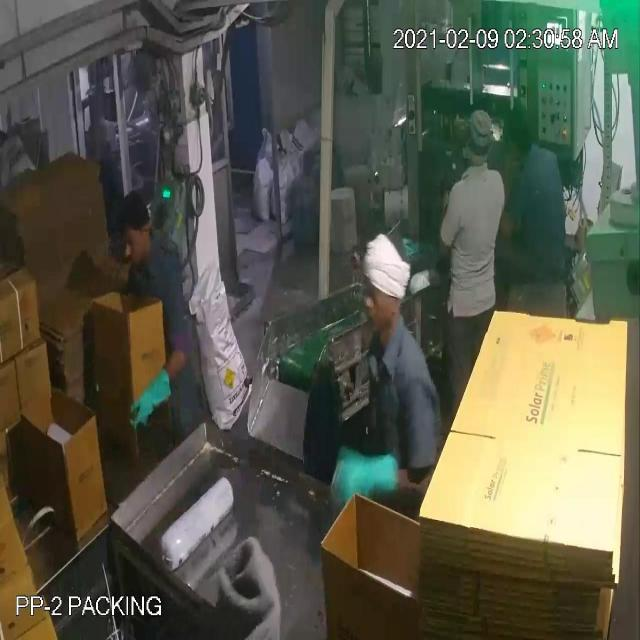Gloves: (54, 63, 367, 474)
